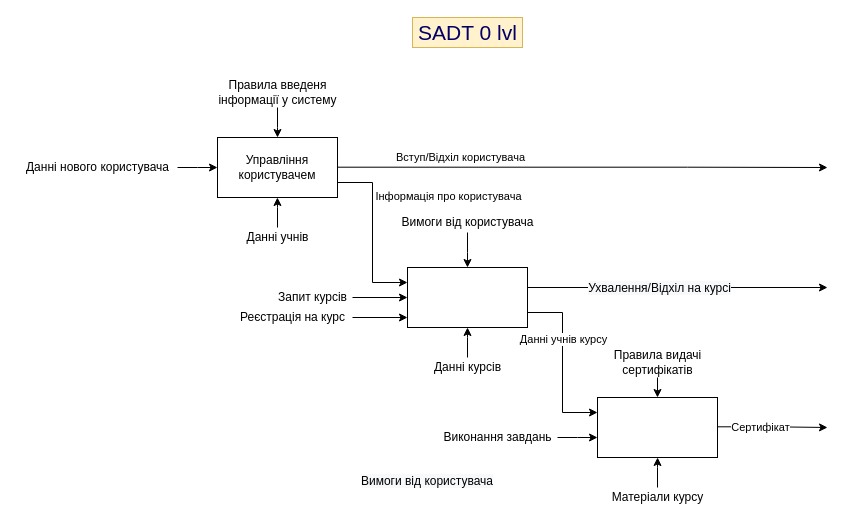
Some shapes in this 853 by 525 pixel diagram are drawn without their labels. The shapes that lost their labels are listed below. From the top down, each one's centre as x and y in pixels, then its label:
At point 467,297: "Запис на курси".
At point 657,427: "Проходження курсу".
